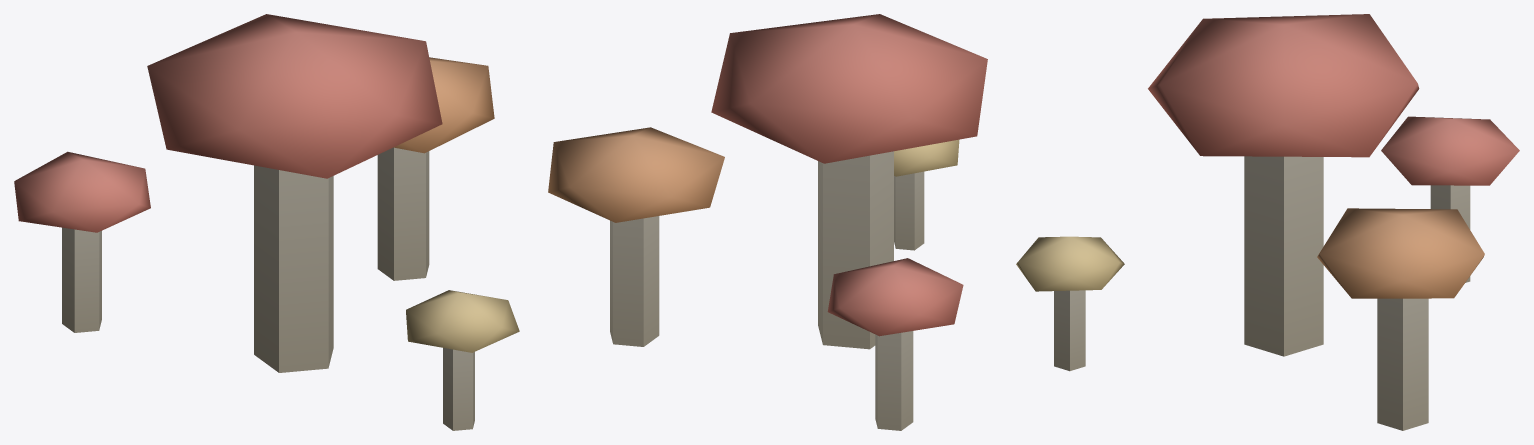
Rendered from dress_mushroom-D-eh2oa_.glb.
3 views of the same model, side by side, from view 1: azimuth 30°, elevation 25°; view 2: azimuth 150°, elevation 25°; view 3: azimuth 270°, elevation 25° (orthographic). The views are drawn at different scales.
Parts seen in each view (by area): view 1: mushroom; view 2: mushroom; view 3: mushroom.
Part boxes in pixels (left/top/right/bottom): mushroom: left=14, top=14, right=519, bottom=430; mushroom: left=548, top=14, right=987, bottom=430; mushroom: left=1016, top=14, right=1519, bottom=430.
Bounding box in the file's own units: 0.419 × 0.2915 × 0.4236.
